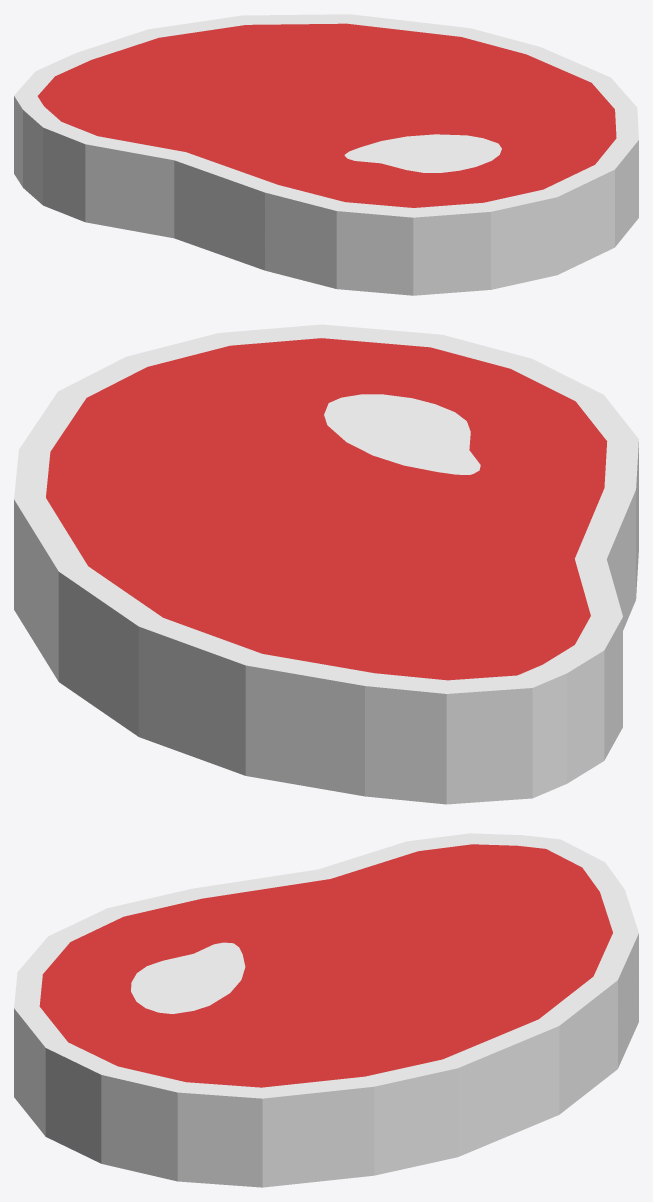
The model's file is Meat.fbx.
The picture shows the model from 3 angles, top to bottom: view 1: azimuth 30°, elevation 25°; view 2: azimuth 150°, elevation 25°; view 3: azimuth 270°, elevation 25°; orthographic projection. The views are drawn at different scales.
Parts seen in each view (by area): view 1: Steak.001; view 2: Steak.001; view 3: Steak.001.
Boxes of the visible parts, <box> form: Steak.001: <box>14,14,638,295</box>; Steak.001: <box>14,324,638,804</box>; Steak.001: <box>14,833,638,1187</box>.
Size of the model in its own units: 1.32 by 0.2057 by 1.31.
